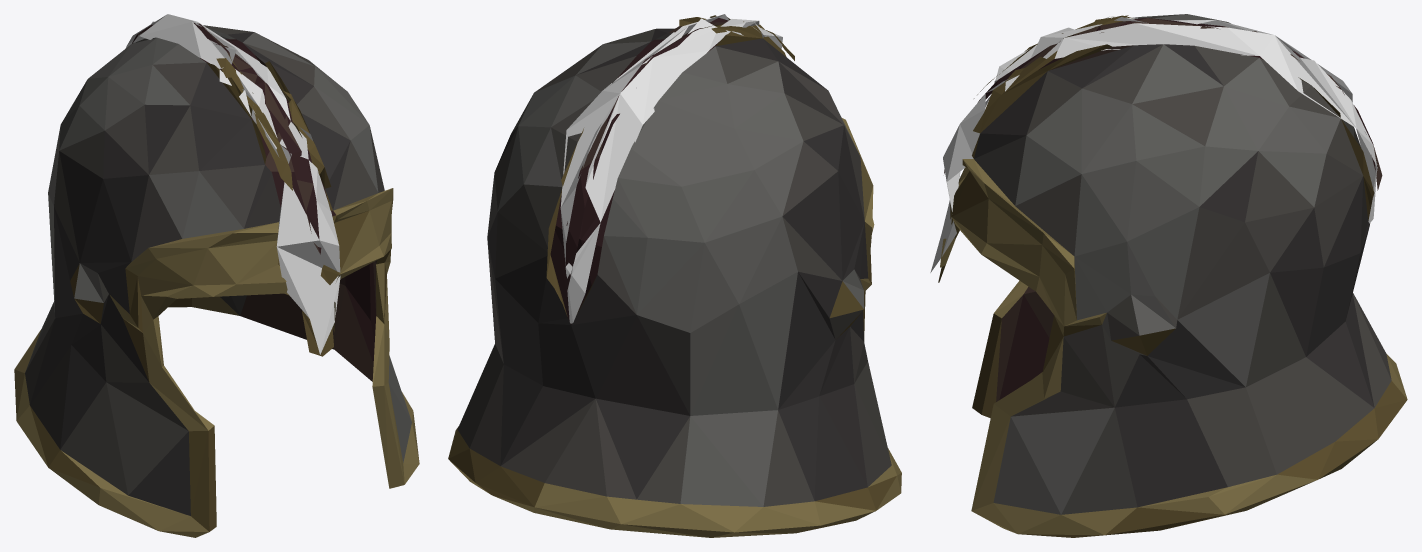
Rendered from aiwpn_helm.glb.
3 views of the same model, side by side, from view 1: azimuth 30°, elevation 25°; view 2: azimuth 150°, elevation 25°; view 3: azimuth 270°, elevation 25° (orthographic). The views are drawn at different scales.
Parts seen in each view (by area): view 1: ca_aiwpn_helm; view 2: ca_aiwpn_helm; view 3: ca_aiwpn_helm.
Part boxes in pixels (x1=…): ca_aiwpn_helm: x1=14, y1=14, x2=419, y2=537; ca_aiwpn_helm: x1=448, y1=14, x2=901, y2=537; ca_aiwpn_helm: x1=930, y1=14, x2=1407, y2=537.
Bounding box in the file's own units: 0.3637 × 0.4244 × 0.4029.
